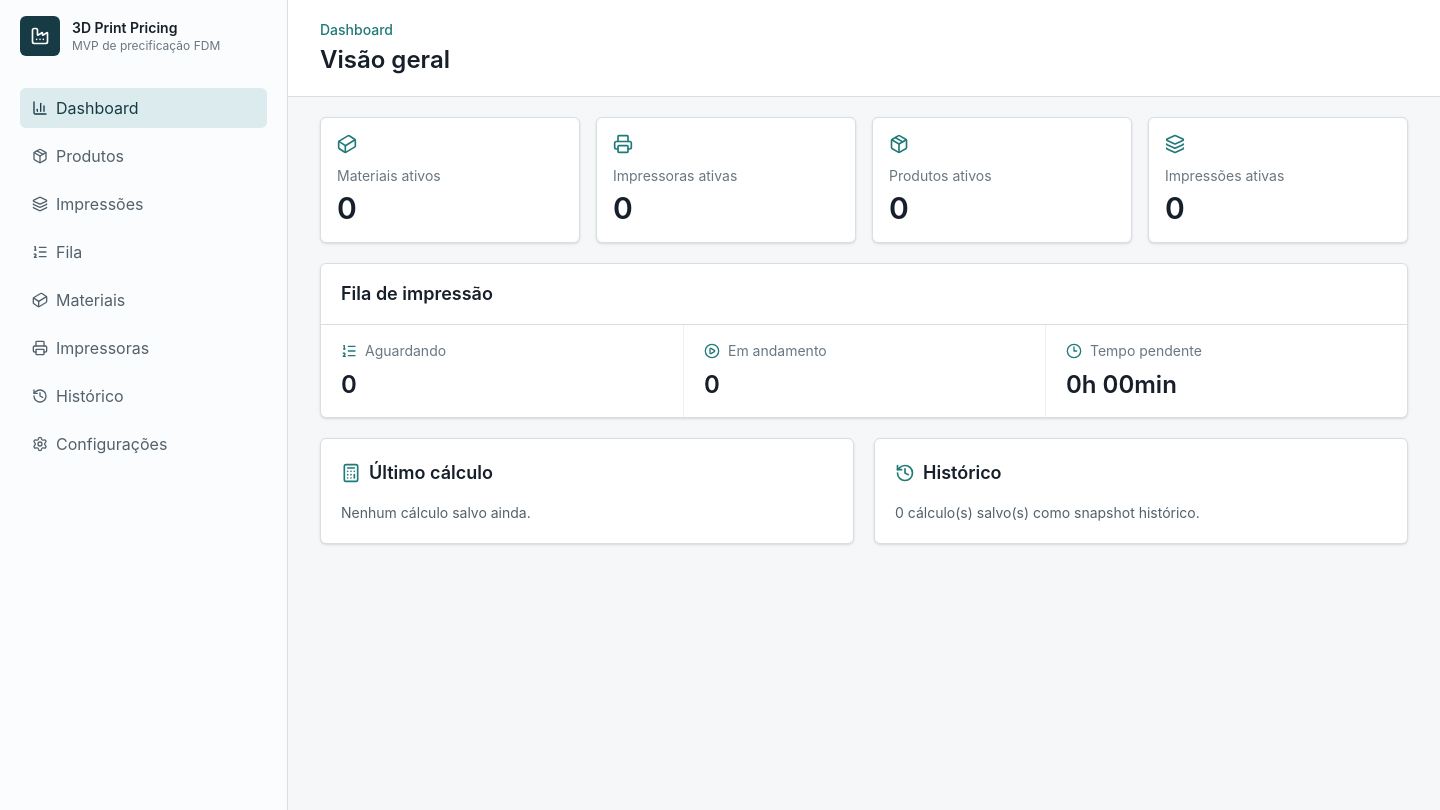
Test: App › opens print queue from navigation
The width and height of the screenshot is (1440, 810).
What coordinates should you click on to do the following:
click the button "Fila"
I would click on:
 (144, 252)
Its box is [20,232,267,272].
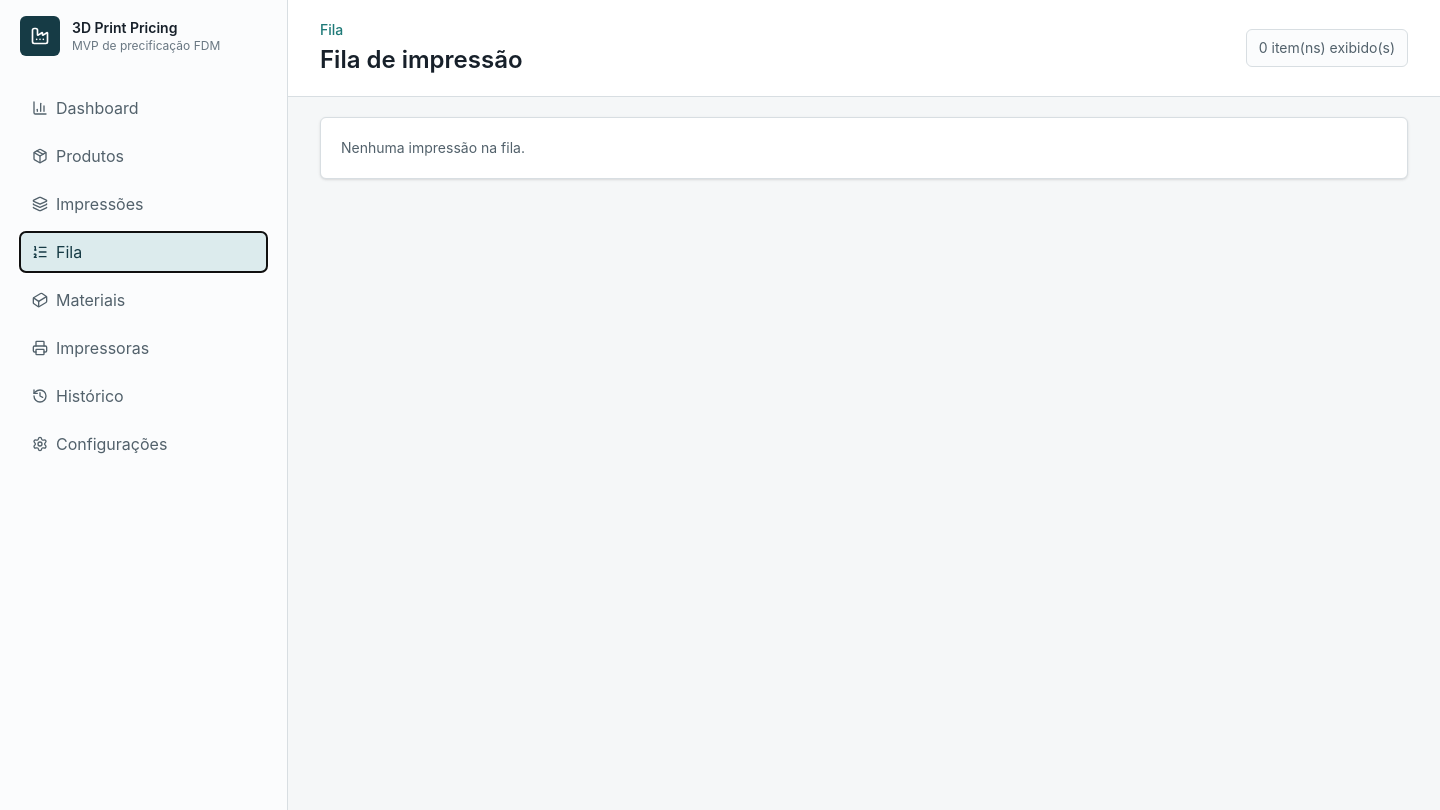
Now the heading "Fila de impressão" is shown, box [320,44,522,76]
Now the text "Nenhuma impressão na fila." is shown, box [320,117,1408,179]
